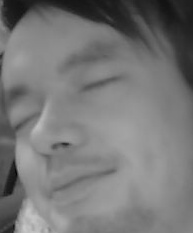blink: (79, 69, 119, 93), (13, 108, 44, 128)
mouth: (44, 164, 117, 207)
